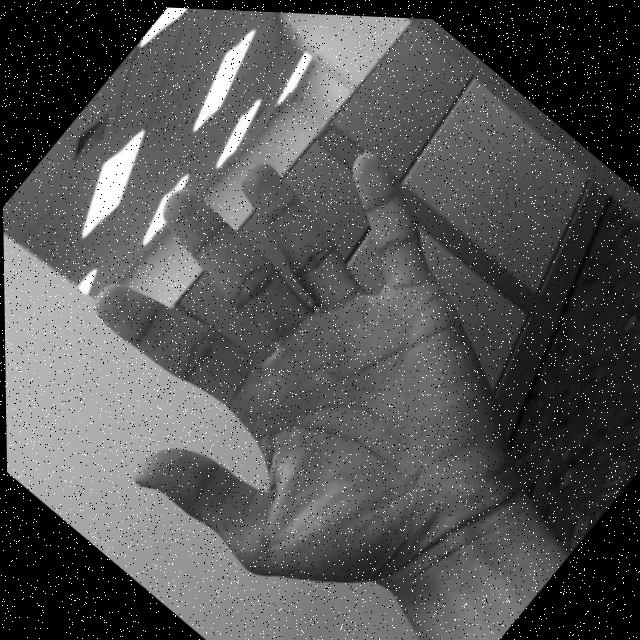hand: (9, 55, 613, 640)
